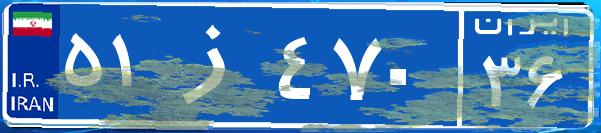0: (385, 28, 445, 110)
1: (110, 28, 158, 105)
3: (475, 38, 525, 113)
4: (273, 28, 330, 110)
5: (57, 26, 110, 107)
6: (525, 38, 570, 115)
7: (330, 28, 385, 110)
ز: (158, 15, 273, 115)
